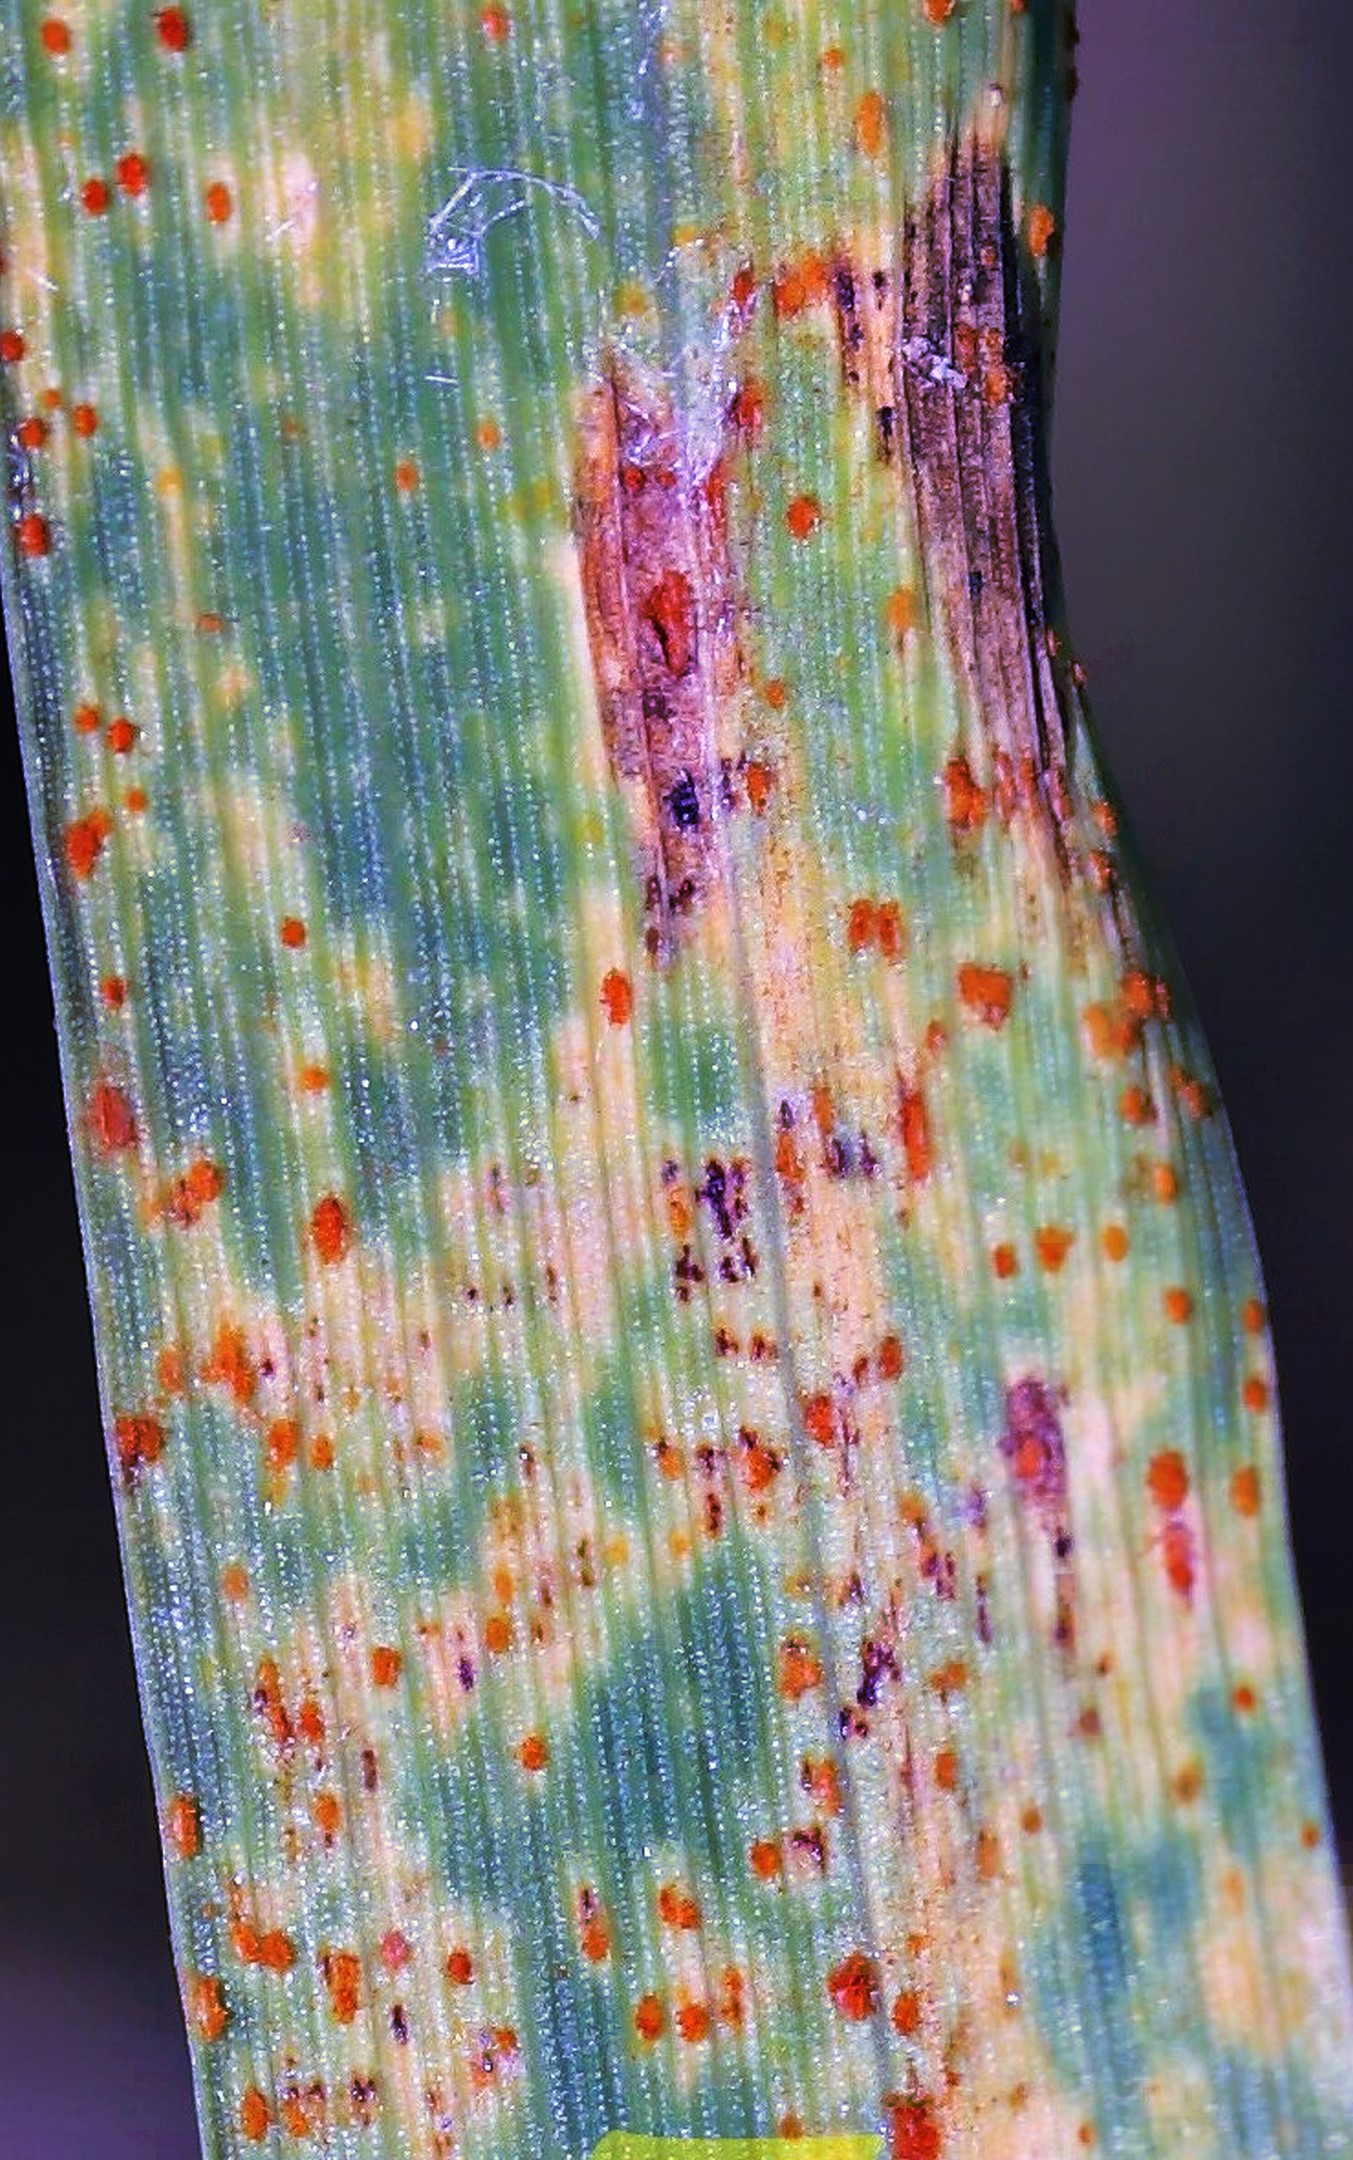Leaf Rust: (45, 655, 1353, 2141)
